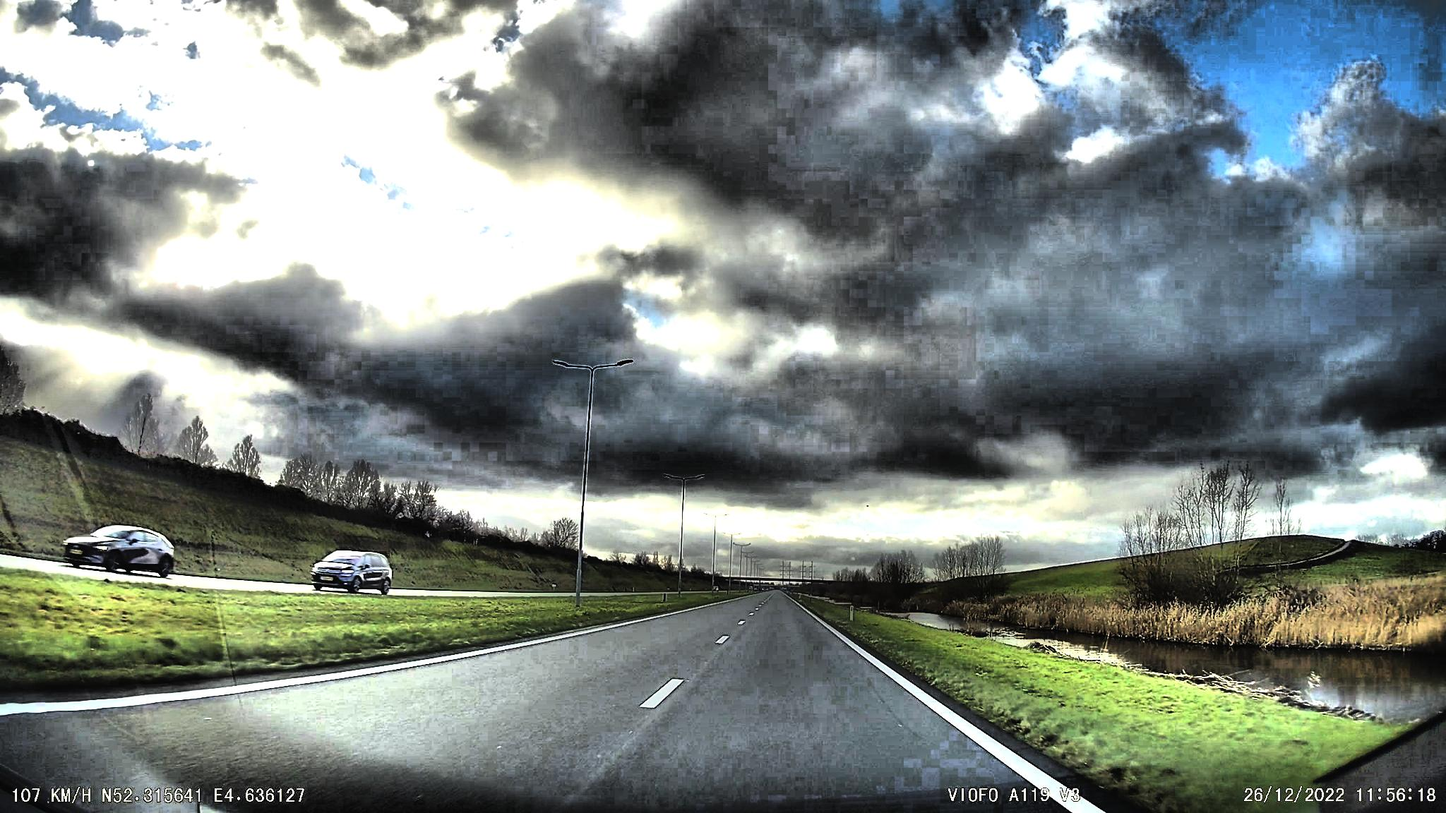Roads: (0, 593, 1146, 813)
